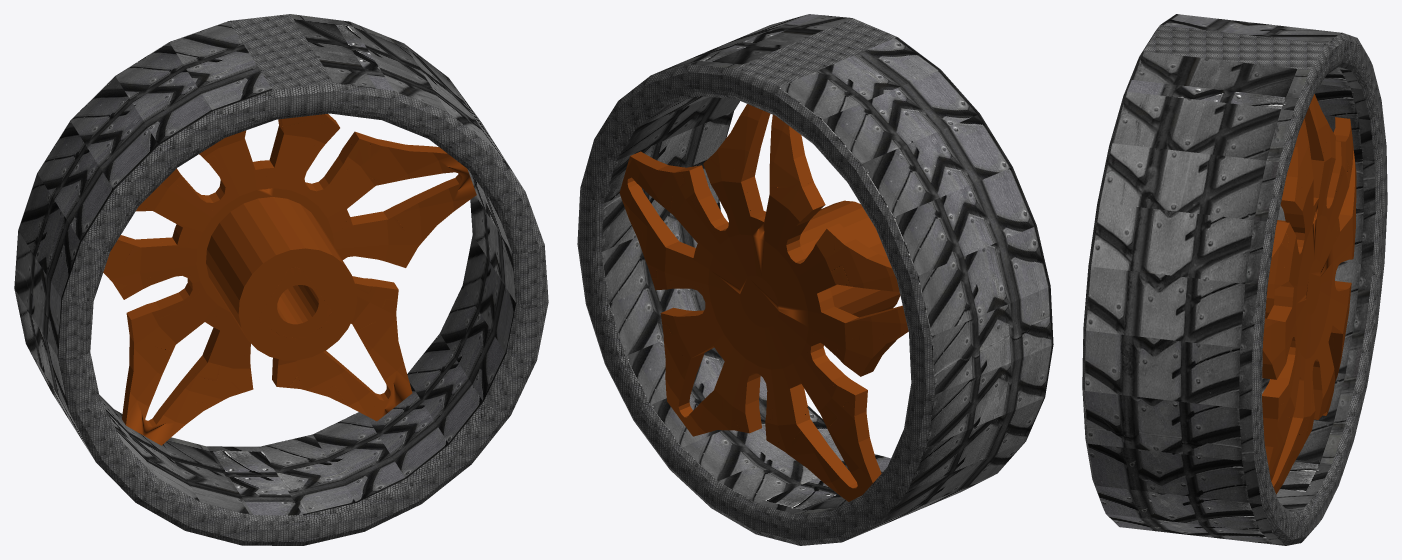
The model's file is llantaDeIz.obj.
3 renders of one model, left to right at view 1: azimuth 30°, elevation 25°; view 2: azimuth 150°, elevation 25°; view 3: azimuth 270°, elevation 25°, orthographic. The views are drawn at different scales.
Visible parts, largest first — view 1: Mesh62, Mesh79; view 2: Mesh62, Mesh79; view 3: Mesh62, Mesh79.
Part boxes in pixels (<box>): Mesh62: <box>14,14,548,545</box>; Mesh79: <box>103,114,476,445</box>; Mesh62: <box>577,14,1053,545</box>; Mesh79: <box>619,104,908,501</box>; Mesh62: <box>1082,14,1387,545</box>; Mesh79: <box>1262,94,1356,494</box>.
Bounding box in the file's own units: 32.29 × 30.63 × 18.15.
